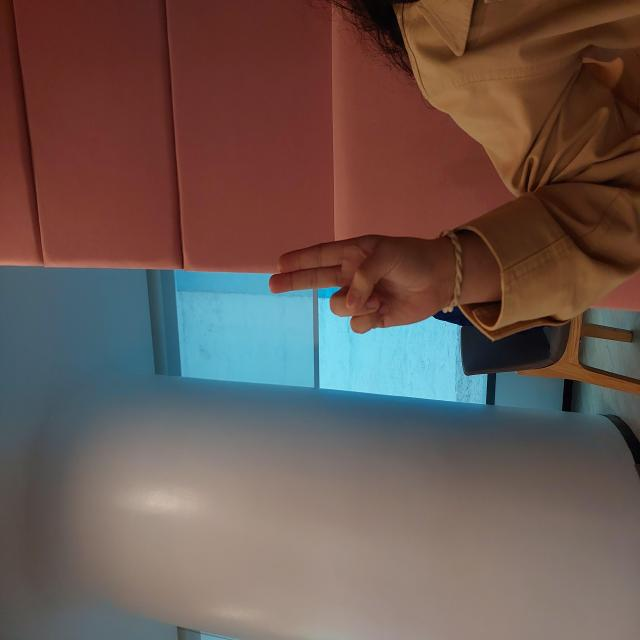U: (302, 263, 412, 451)
